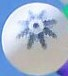Balloon: (1, 2, 68, 76)
